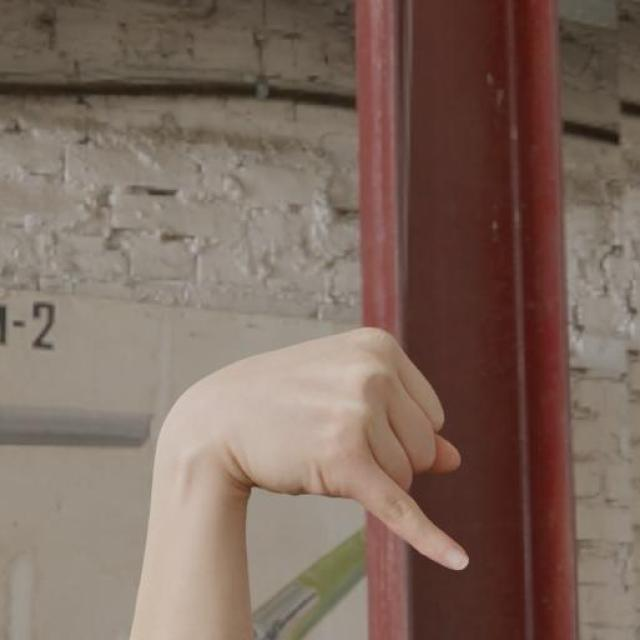J: (185, 325, 470, 573)
